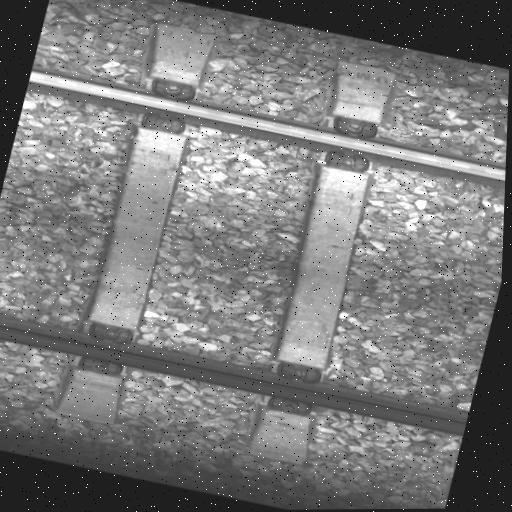sleeper: (52, 18, 225, 428), (243, 57, 402, 466)
